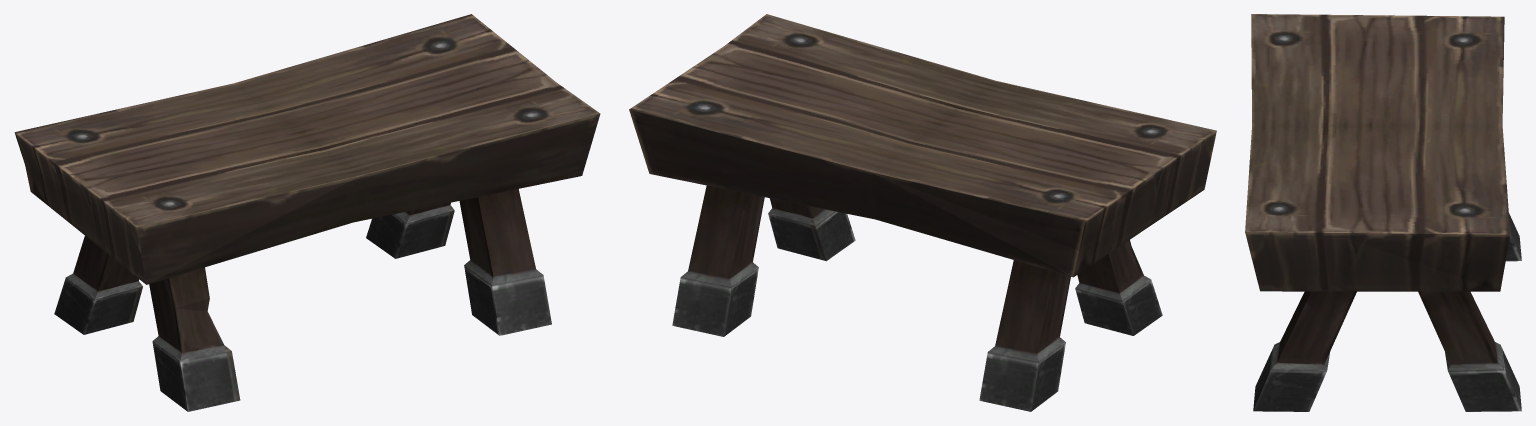
The model's file is bandit_table_01.fbx.
The picture shows the model from 3 angles, left to right: view 1: azimuth 30°, elevation 25°; view 2: azimuth 150°, elevation 25°; view 3: azimuth 270°, elevation 25°; orthographic projection.
Visible parts, largest first — view 1: obj0.640; view 2: obj0.640; view 3: obj0.640.
Part boxes in pixels (left/top/right/bottom): obj0.640: left=14, top=14, right=600, bottom=411; obj0.640: left=629, top=14, right=1216, bottom=411; obj0.640: left=1245, top=14, right=1521, bottom=411.
Bounding box in the file's own units: 3.2 × 1.34 × 1.67.
